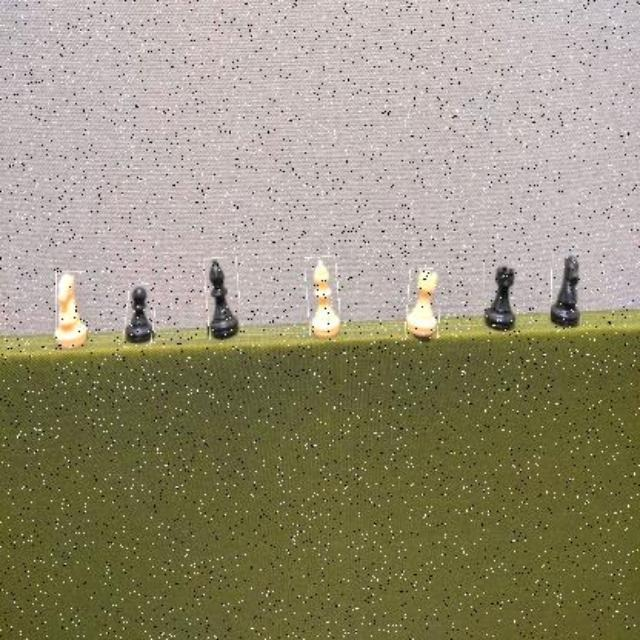black-bishop: (204, 257, 239, 341)
black-knight: (552, 254, 584, 330)
black-pawn: (126, 284, 156, 350)
black-rook: (484, 263, 520, 333)
white-bishop: (308, 256, 340, 342)
white-knight: (56, 271, 88, 352)
white-rook: (407, 269, 441, 341)
